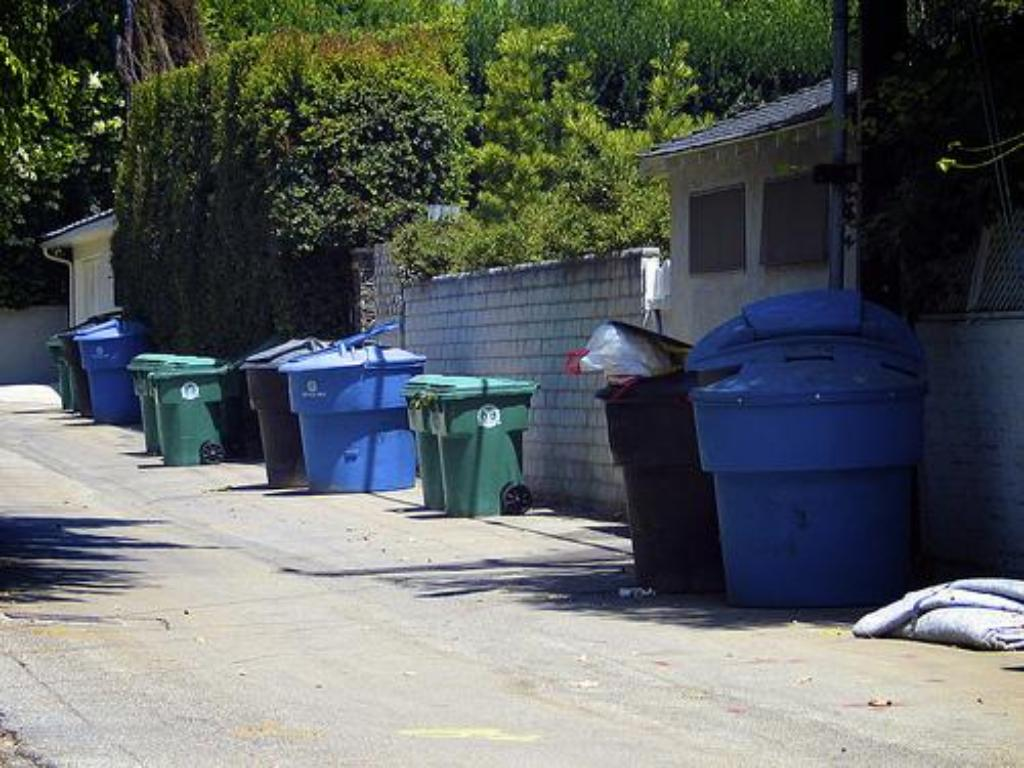dustbin: (248, 333, 430, 501), (403, 358, 541, 519), (126, 343, 242, 476), (42, 312, 147, 421)
